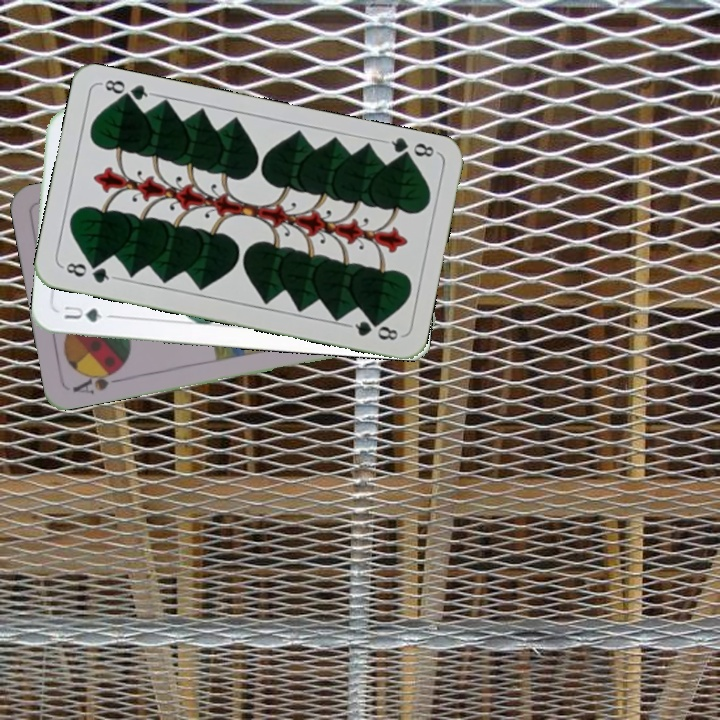G8: (380, 133, 437, 164), (58, 258, 117, 286)
GU: (60, 302, 115, 325)
SA: (68, 364, 127, 397)
